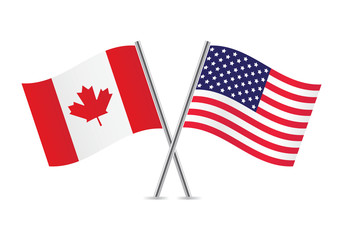America flag: (183, 44, 322, 168)
Canada flag: (22, 43, 162, 168)
